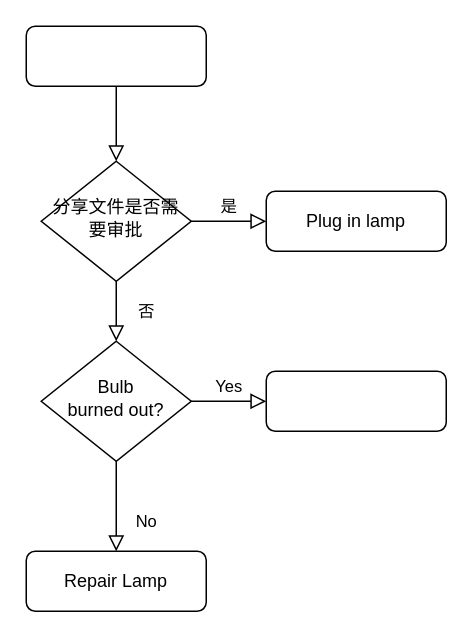
This 473x638 diagram has some shape labels left out. The shapes that lost their labels are listed below. From the top down, each one's box as (x1, y1, x2, y2) in pixels, then its label:
(25, 25, 206, 86): 客户端发起文件分享
(265, 370, 446, 431): Replace Bulb
